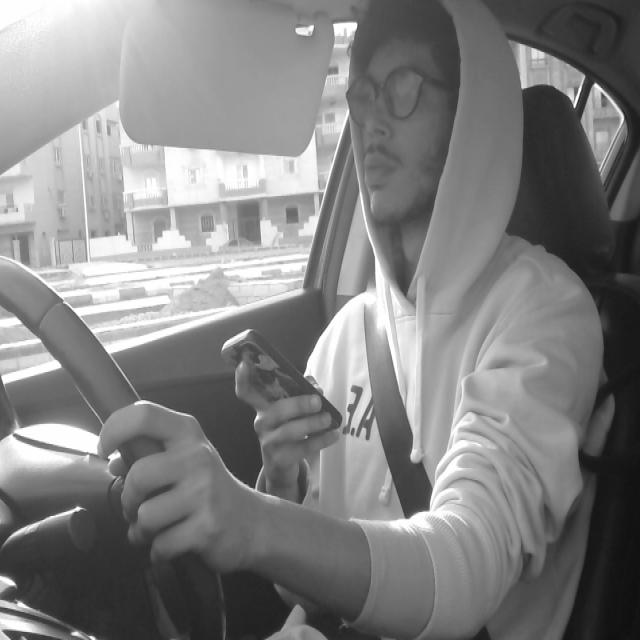mobile use: (217, 322, 353, 442)
